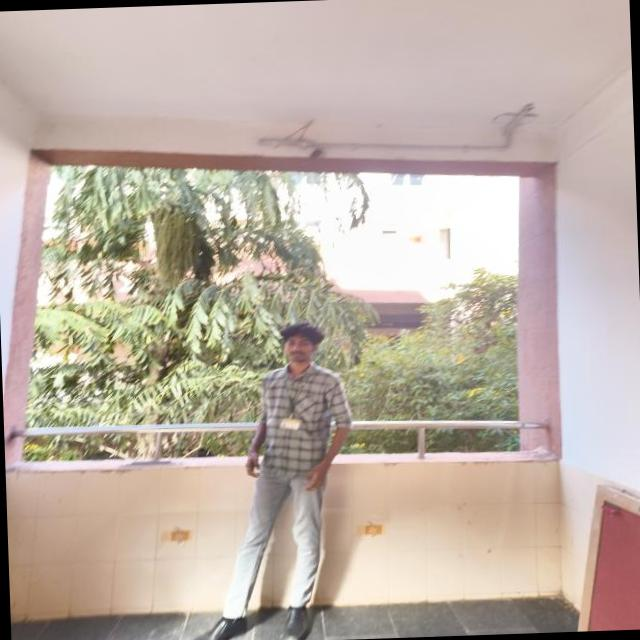id_card: (278, 374, 306, 433)
